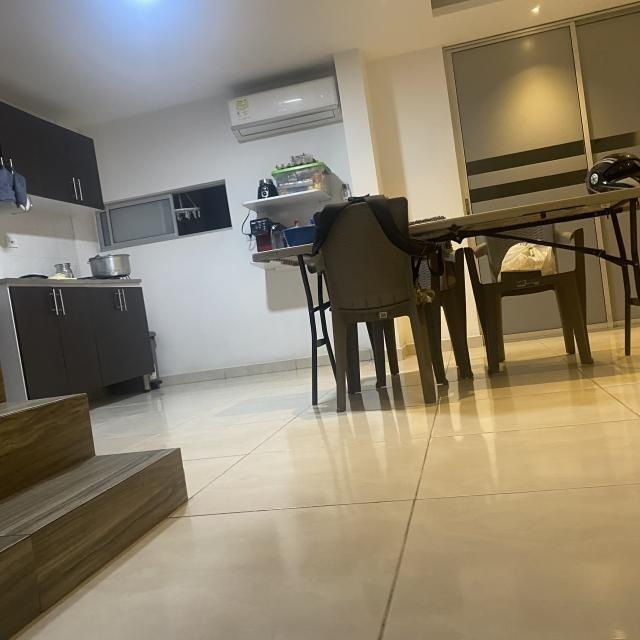obstacle: (312, 190, 467, 414), (472, 200, 604, 378), (7, 266, 158, 387)
stair: (0, 384, 195, 638)
